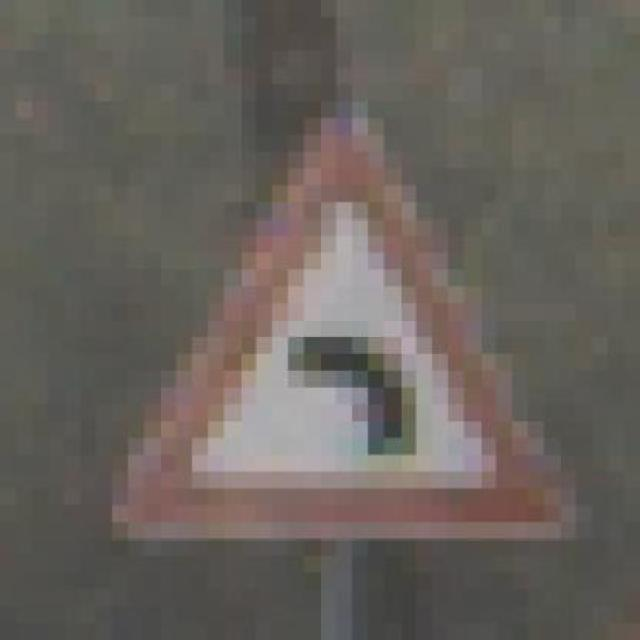Dangerous Left Curve Ahead: (96, 101, 576, 573)
